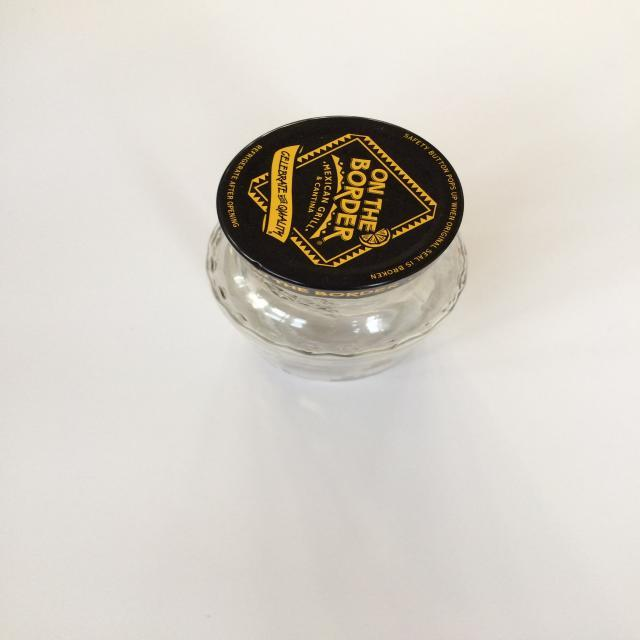glass: (204, 114, 469, 380)
